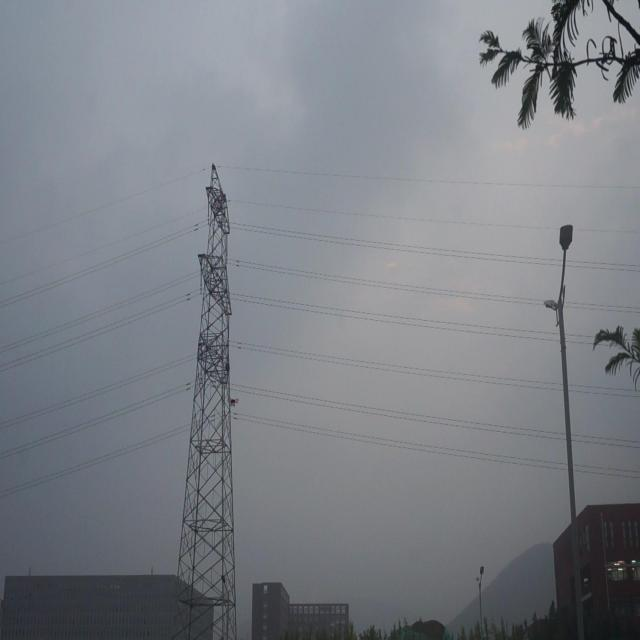UAV: (227, 398, 239, 407)
